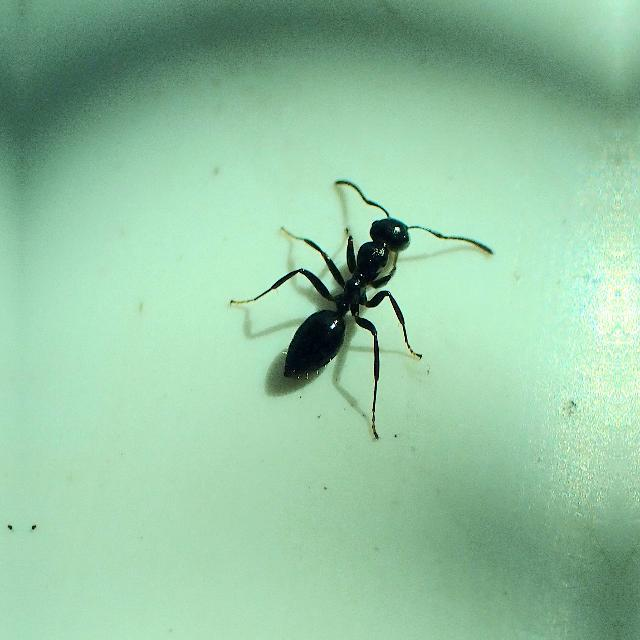Colobopsis: (246, 196, 450, 394)
